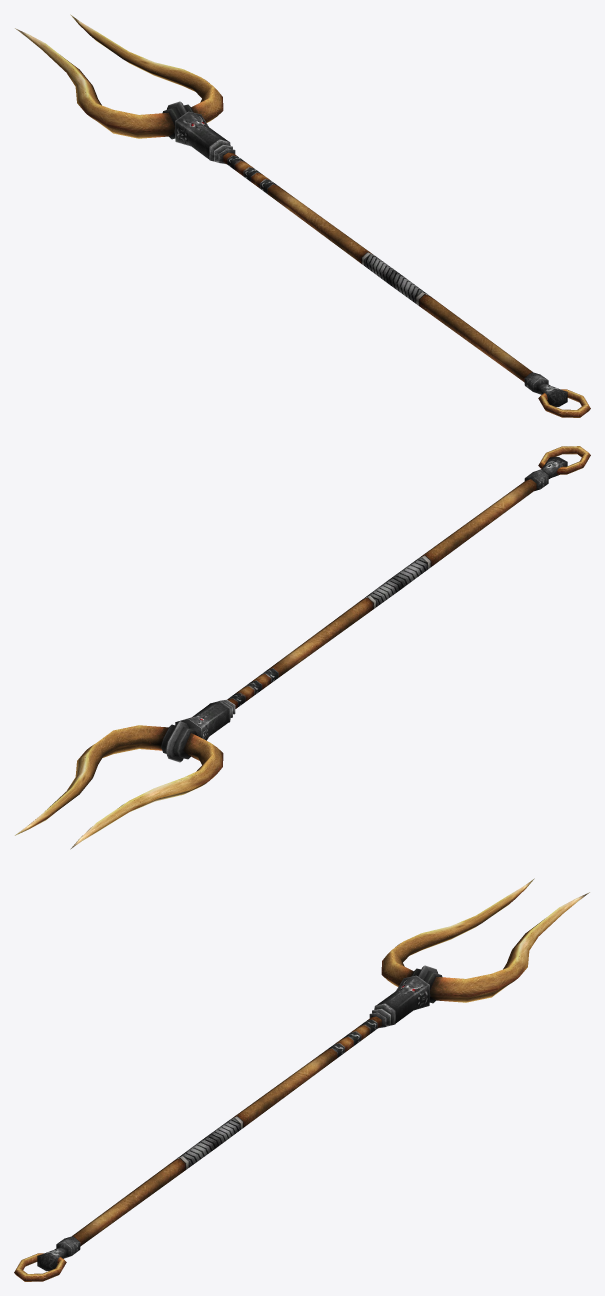
File: spear_spear_3_spear_3.glb
3 renders of one model, top to bottom at view 1: azimuth 30°, elevation 25°; view 2: azimuth 150°, elevation 25°; view 3: azimuth 330°, elevation 25°, orthographic.
Size of the model in its own units: 0.3992 by 0.1277 by 3.01.
1 material, 1 textured.
